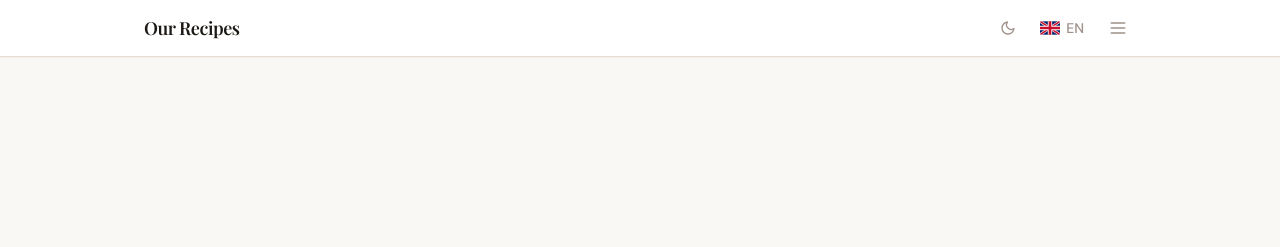
Test: Navbar › shows user menu when authenticated
Click the button named "Menu" at (1118, 28), box [1100, 10, 1136, 46]
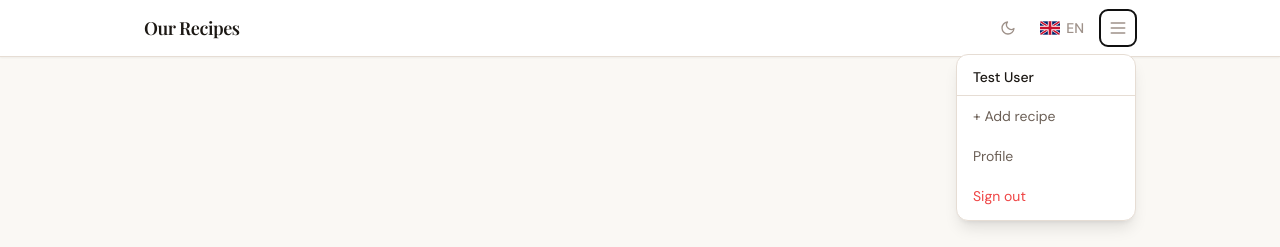
Check: the text "Test User" is shown, box [957, 59, 1135, 96]
Check: the link "+ Add recipe" is shown, box [973, 107, 1056, 125]
